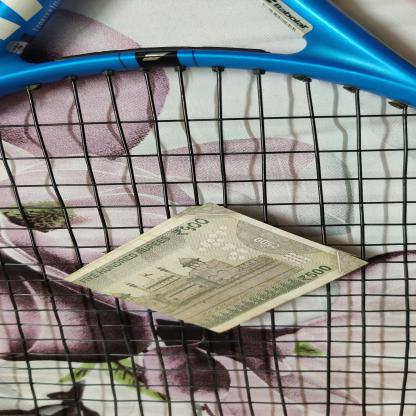New500Back: (61, 202, 370, 334)
